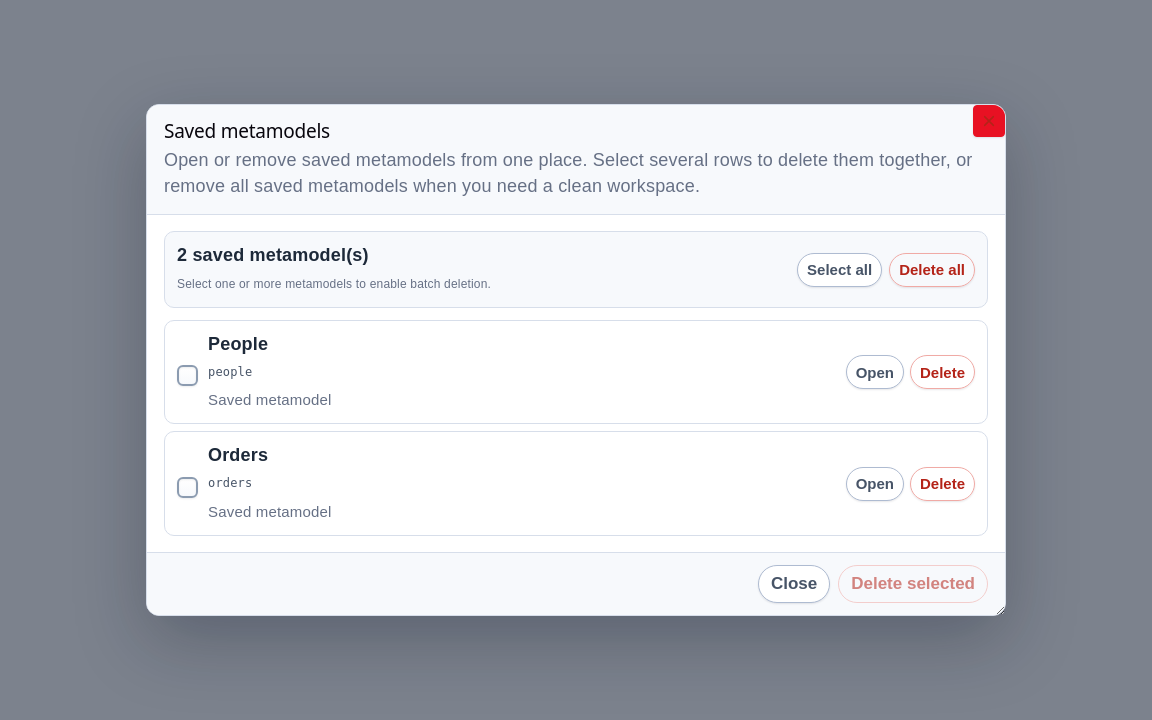
Scenario: MetamodelLibraryDialog › supports multiple and all selection
Click the button "Select all" at {"x": 840, "y": 270}, box [797,252,882,286]
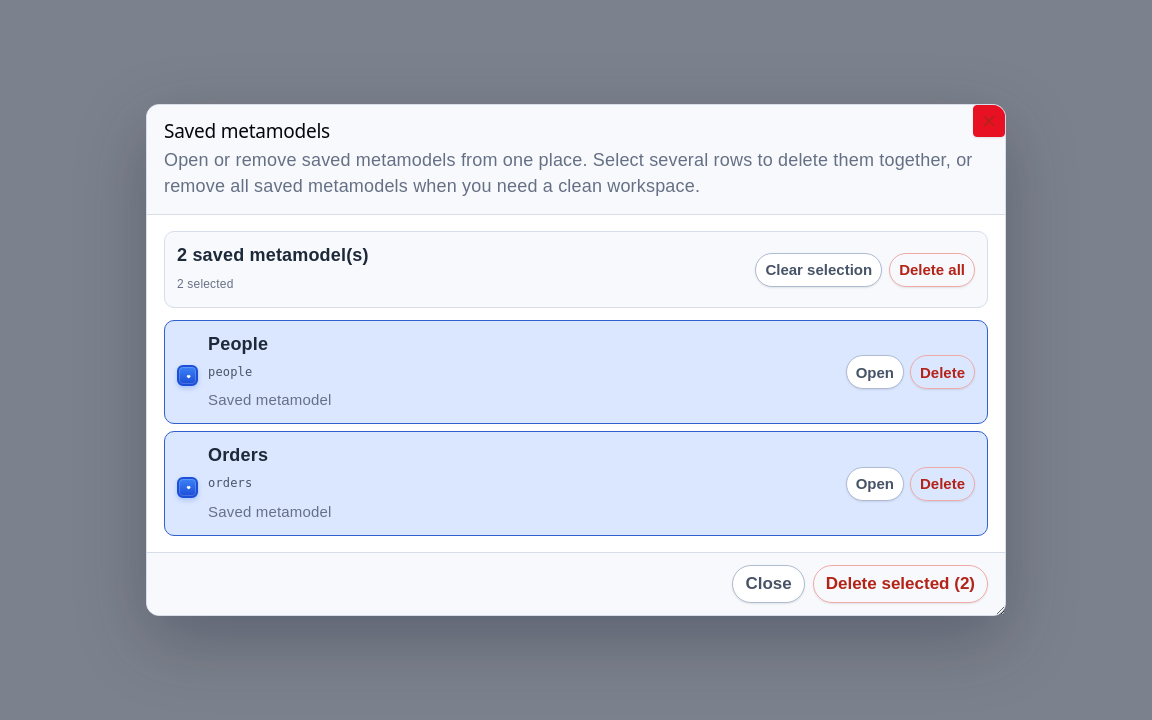
Now the button "Delete selected (2)" is shown, box [813,565,988,603]
Click the button "Delete all" at {"x": 932, "y": 270}, box [889,252,975,286]
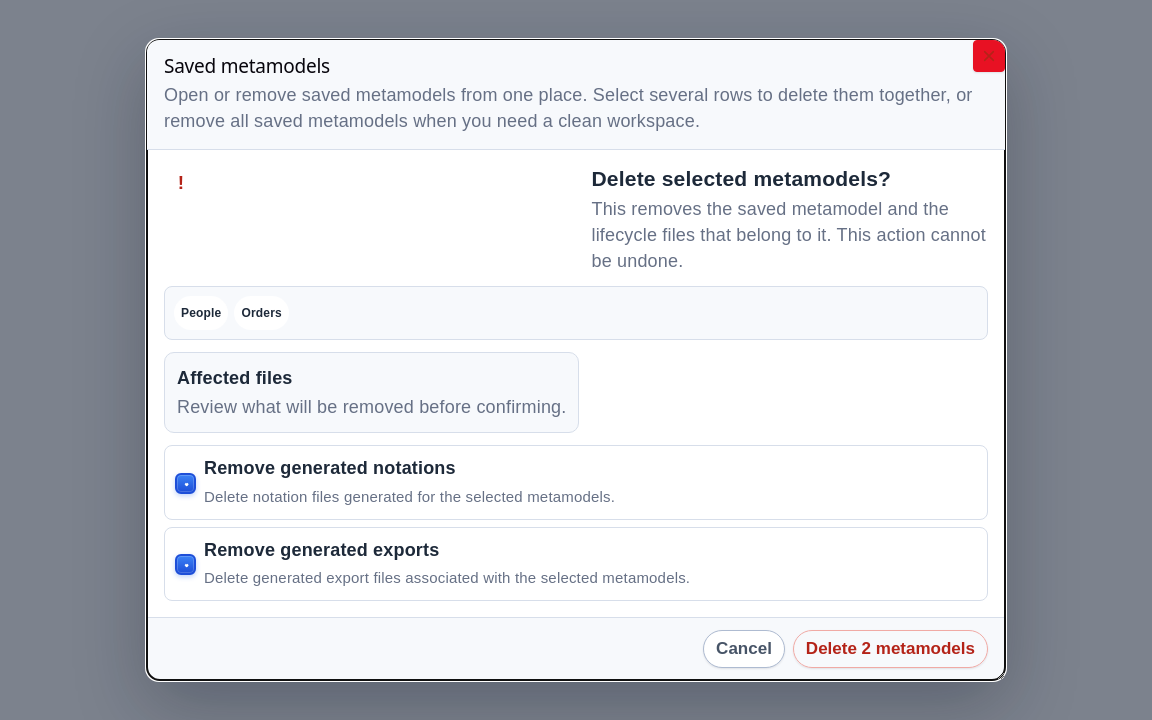
Now the heading "Delete selected metamodels?" is shown, box [592,167,891,190]
